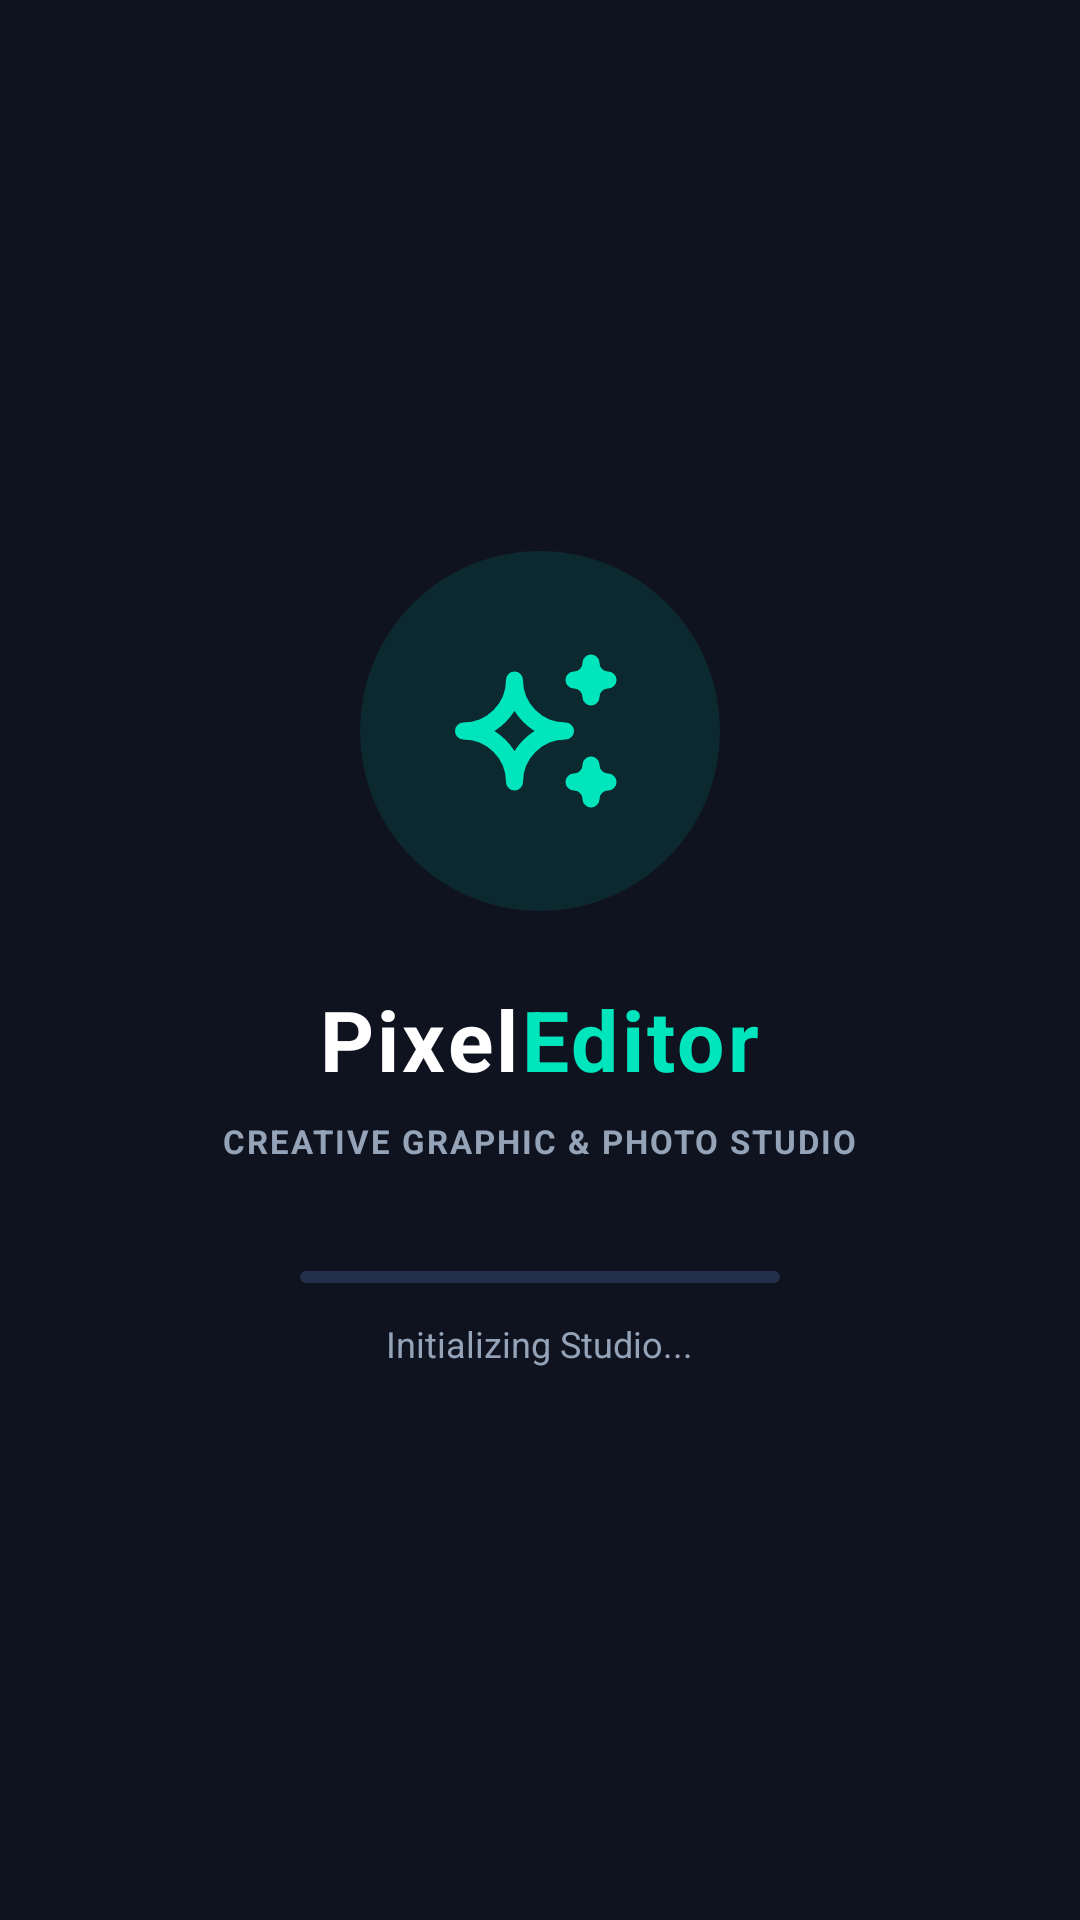

Point at icon controls on the screen. Image size 1080px x 1920px, points as point (x, y).
tool effects: point (536, 731)
